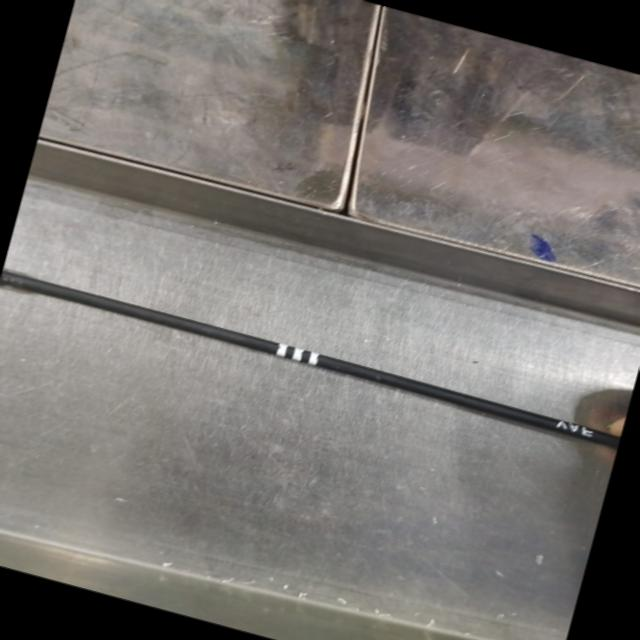white: (274, 342, 320, 366)
